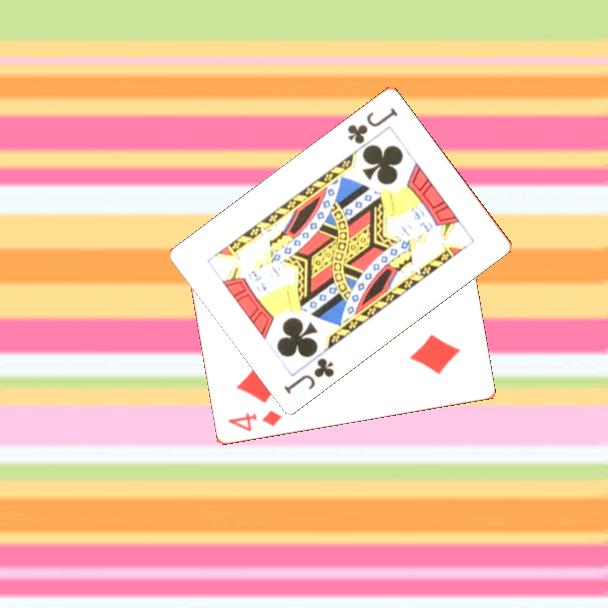c11: (344, 103, 401, 147), (280, 354, 337, 397)
d04: (224, 407, 284, 435)
